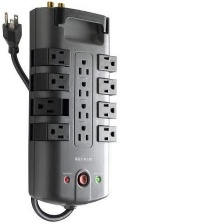three_eye_plug: (24, 2, 119, 213)
